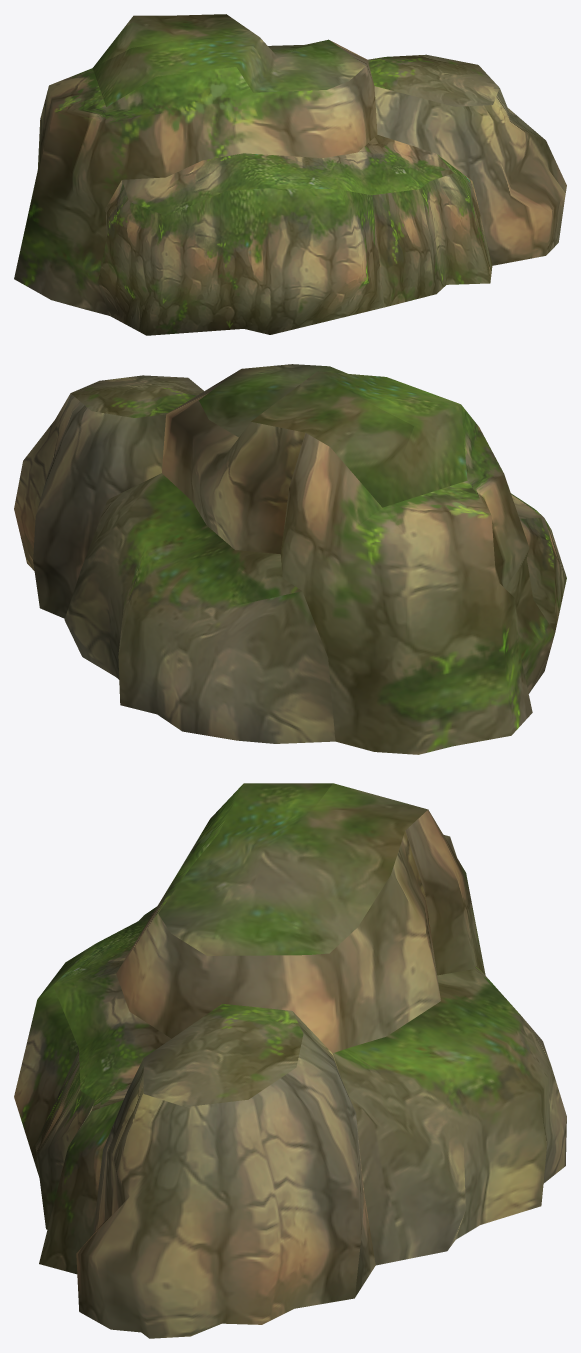
Rendered from daliang_field_d_s01c.fbx.
The picture shows the model from 3 angles, top to bottom: view 1: azimuth 30°, elevation 25°; view 2: azimuth 150°, elevation 25°; view 3: azimuth 270°, elevation 25°; orthographic projection. The views are drawn at different scales.
Visible parts, largest first — view 1: daliang_field_d_s01c; view 2: daliang_field_d_s01c; view 3: daliang_field_d_s01c.
Boxes of the visible parts, bbox=[...] form: daliang_field_d_s01c: bbox=[14, 14, 566, 335]; daliang_field_d_s01c: bbox=[14, 364, 566, 754]; daliang_field_d_s01c: bbox=[14, 783, 566, 1338].
Size of the model in its own units: 911 by 441 by 669.
